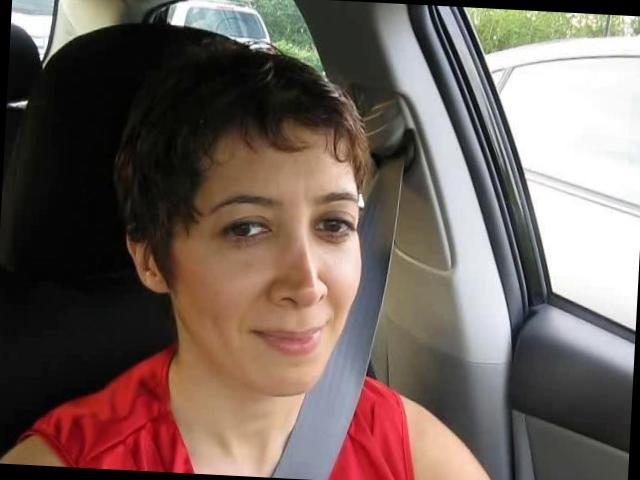eye_open: (213, 210, 276, 246), (312, 210, 358, 244)
face: (184, 165, 372, 404)
